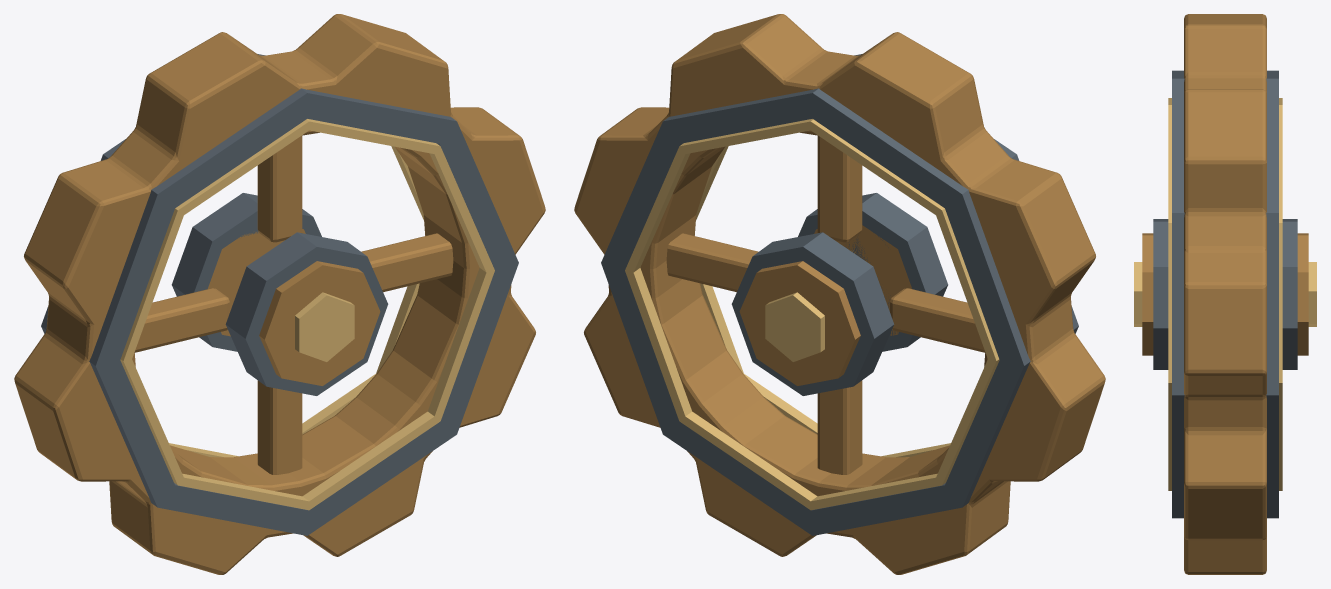
Rendered from Gear_Refined_Low.fbx.
3 renders of one model, left to right at view 1: azimuth 30°, elevation 25°; view 2: azimuth 150°, elevation 25°; view 3: azimuth 270°, elevation 25°, orthographic. The views are drawn at different scales.
Parts seen in each view (by area): view 1: Gear_Refined_Low; view 2: Gear_Refined_Low; view 3: Gear_Refined_Low.
Boxes of the visible parts, x1,y1,x2,y2 form: Gear_Refined_Low: (14, 14, 545, 574); Gear_Refined_Low: (574, 14, 1105, 574); Gear_Refined_Low: (1134, 14, 1316, 574).
Size of the model in its own units: 200 by 66 by 200.
